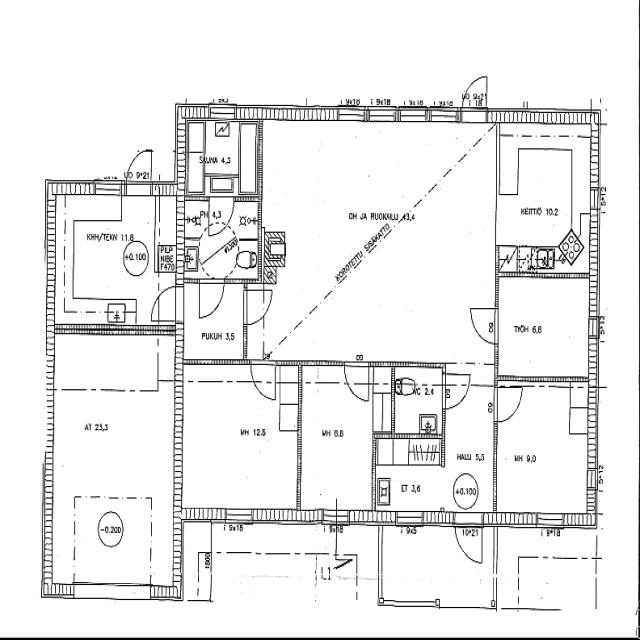door: (468, 304, 500, 346), (198, 276, 226, 321), (455, 520, 483, 564), (242, 284, 270, 327), (495, 383, 524, 423), (152, 282, 179, 324), (343, 364, 371, 404), (124, 148, 152, 185), (461, 75, 488, 113), (250, 362, 276, 401), (210, 198, 234, 234), (445, 376, 470, 409)
window: (427, 104, 460, 125), (398, 104, 431, 124), (366, 103, 397, 124), (386, 597, 436, 609), (336, 105, 365, 122), (225, 507, 253, 523), (209, 104, 236, 120), (396, 510, 423, 524)
zone: (261, 111, 498, 372), (51, 325, 176, 596), (178, 359, 302, 512), (52, 193, 178, 326), (496, 118, 593, 274), (494, 384, 595, 513), (301, 363, 379, 508), (494, 276, 596, 383), (182, 196, 260, 284), (442, 389, 496, 511), (178, 119, 262, 197), (374, 438, 443, 515), (374, 363, 444, 437), (516, 556, 584, 610), (184, 520, 212, 600), (70, 579, 149, 595)
